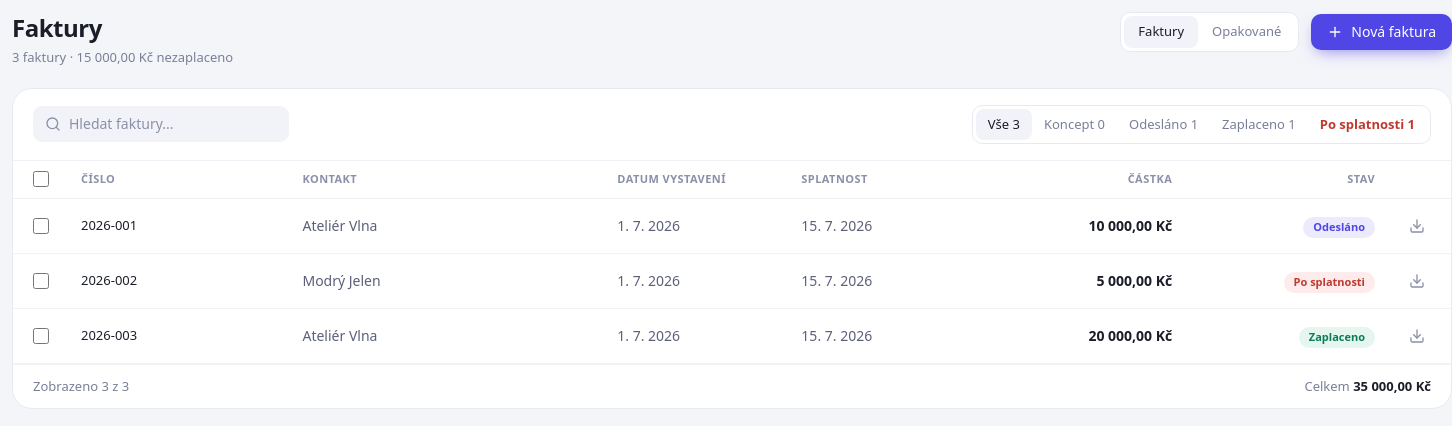
it: Invoices › filters client-side by status without refetching
Click the button "Po splatnosti 1": (1367, 124) x1=1308 y1=108 x2=1427 y2=140
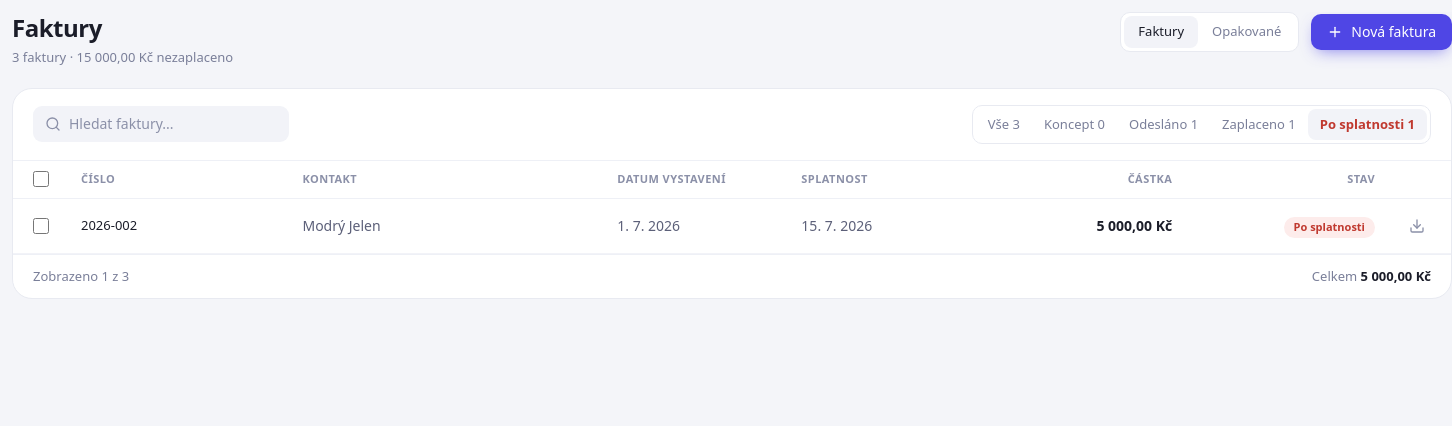
Check: the link "2026-002" is shown, box x1=81 y1=216 x2=137 y2=234
Check: no links "2026-001" are shown
